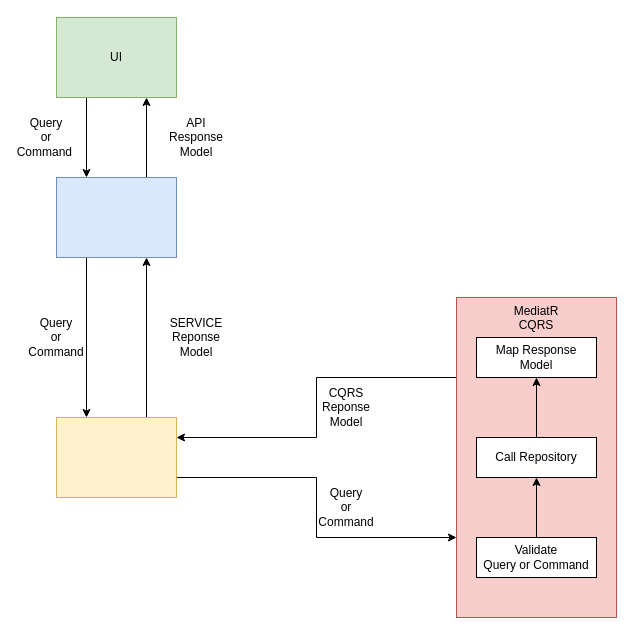
This 634x635 diagram has some shape labels left out. Here are the shapes that lost their labels. From the top down, the box of each, then its label:
(56, 176, 176, 258): WEB API
(56, 416, 176, 498): Service
